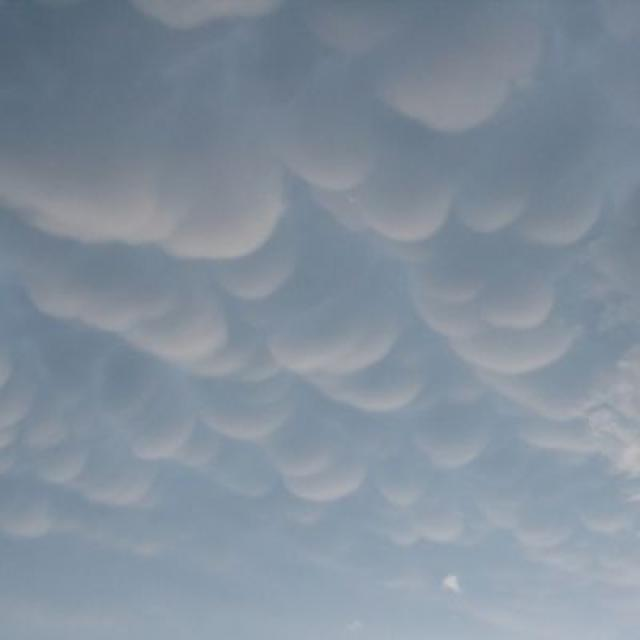As: (1, 5, 640, 616)
